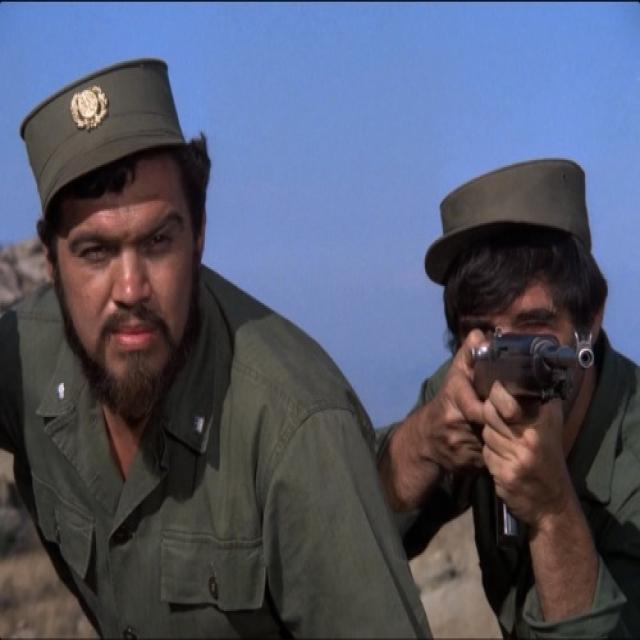rifle: (470, 320, 601, 558)
